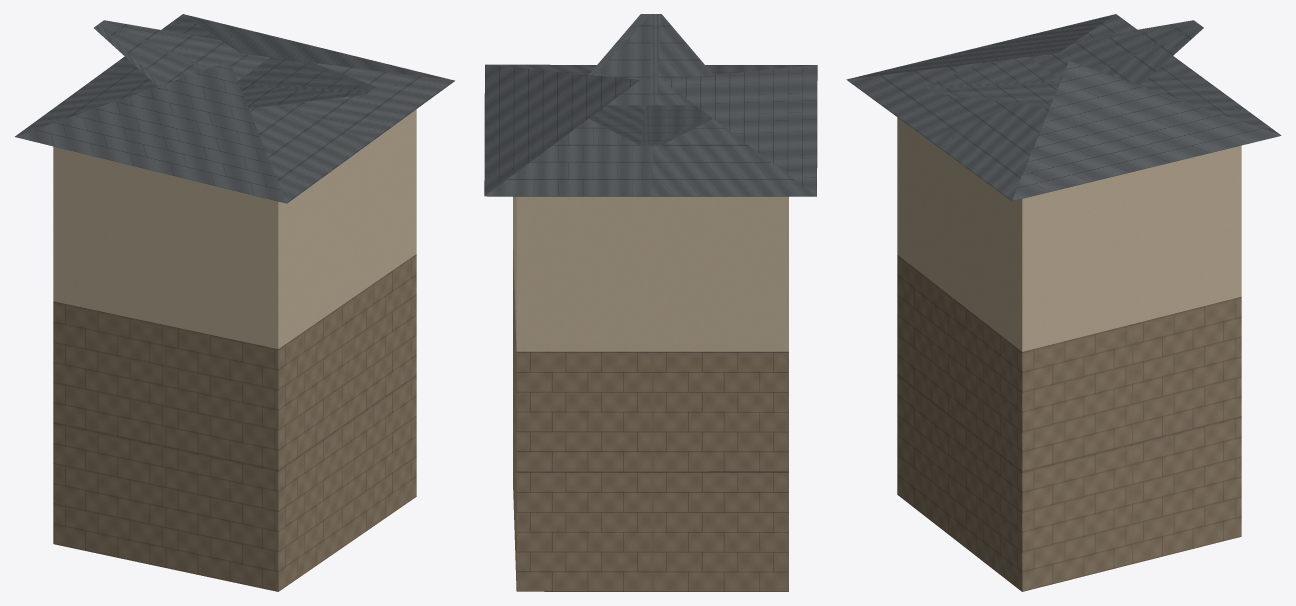
The model's file is bld_c13_7_547.gltf.
The picture shows the model from 3 angles, left to right: view 1: azimuth 30°, elevation 25°; view 2: azimuth 150°, elevation 25°; view 3: azimuth 270°, elevation 25°; orthographic projection.
Parts seen in each view (by area): view 1: bld_c13_7_547; view 2: bld_c13_7_547; view 3: bld_c13_7_547.
Boxes of the visible parts, box(x1,y1,x2,y2) form: bld_c13_7_547: box(15, 14, 454, 591); bld_c13_7_547: box(484, 14, 817, 591); bld_c13_7_547: box(846, 14, 1281, 591).
Size of the model in its own units: 7.9 by 9 by 7.76.
Materials: 3 (3 with a texture image).
